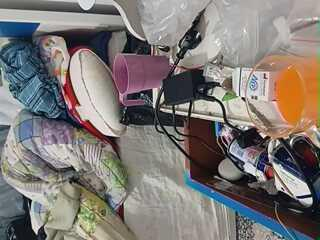cup: (125, 184, 245, 239), (179, 85, 248, 127)
